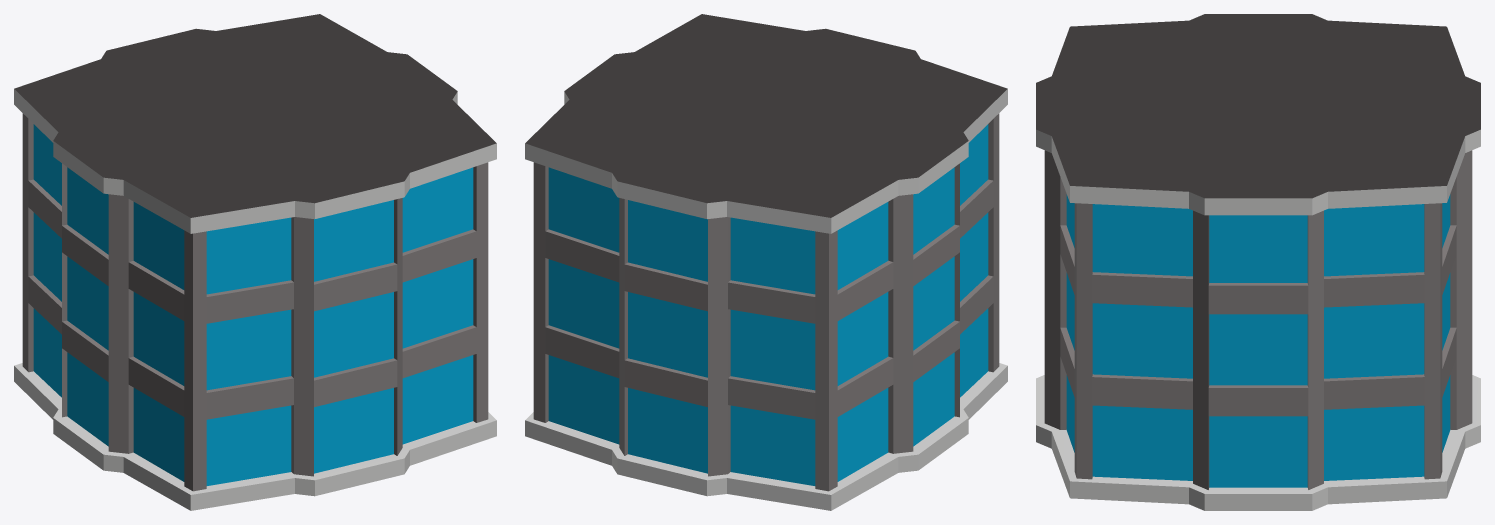
Rendered from Building_11.fbx.
The picture shows the model from 3 angles, left to right: view 1: azimuth 30°, elevation 25°; view 2: azimuth 150°, elevation 25°; view 3: azimuth 270°, elevation 25°; orthographic projection. The views are drawn at different scales.
Visible parts, largest first — view 1: skyscraper2-part-middle-small; view 2: skyscraper2-part-middle-small; view 3: skyscraper2-part-middle-small.
Part boxes in pixels (box(x1,y1,x2,y2)): skyscraper2-part-middle-small: box(14, 14, 496, 510); skyscraper2-part-middle-small: box(525, 14, 1007, 510); skyscraper2-part-middle-small: box(1036, 14, 1480, 510).
Size of the model in its own units: 2.31 by 1.83 by 2.36.
